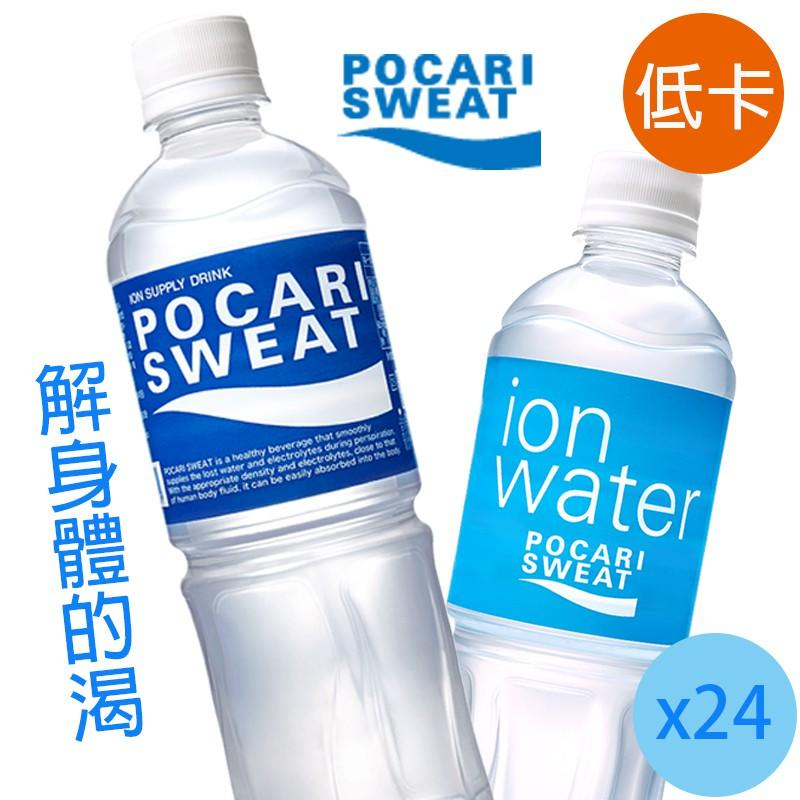POCARI SWEAT: (109, 15, 494, 800)
